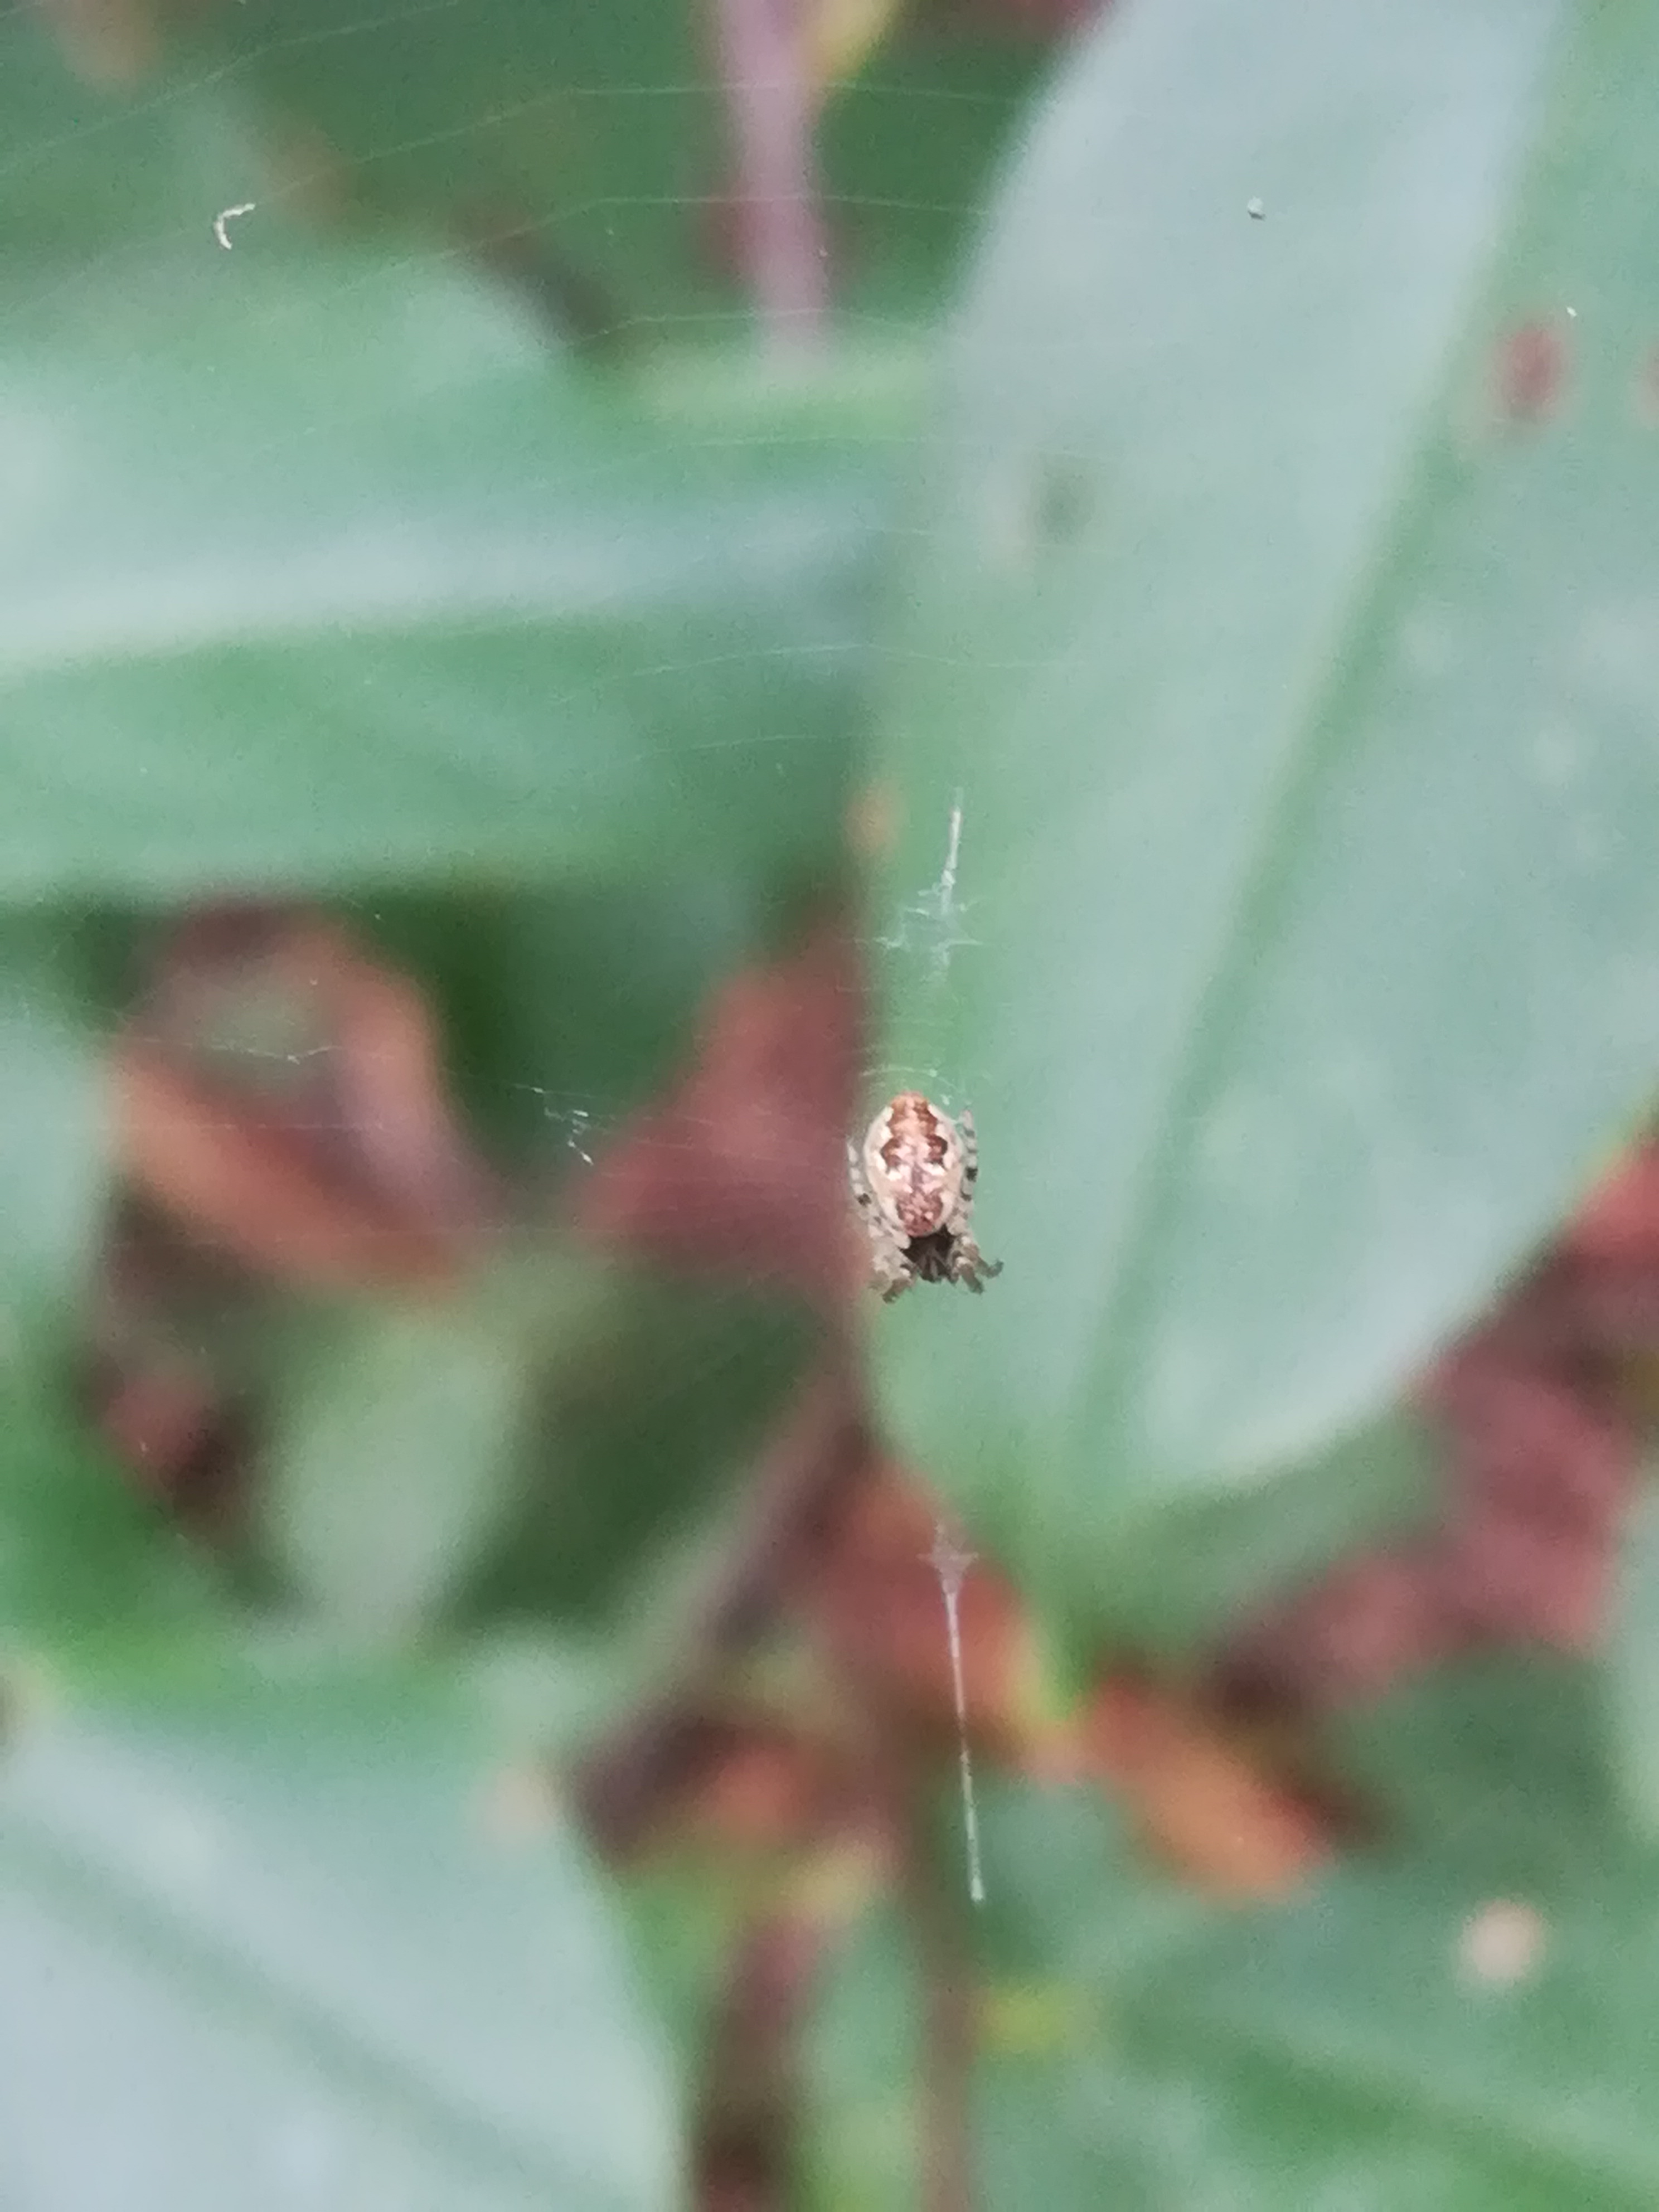spider: (805, 1062, 1044, 1329)
